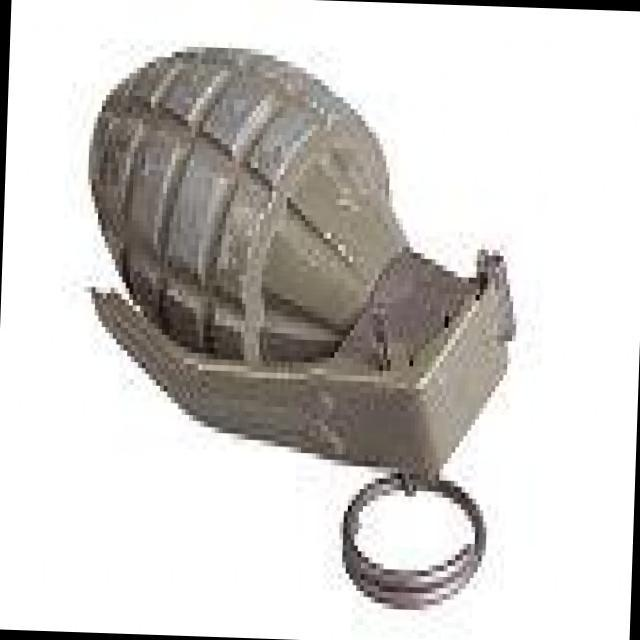grenade: (70, 28, 540, 604)
